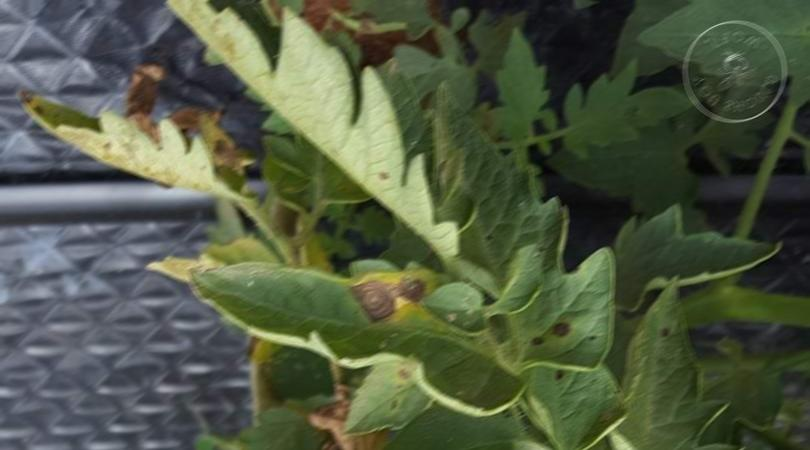Tomato Early blight leaf: (150, 249, 523, 419)
Tomato leaf: (600, 196, 781, 317), (557, 62, 699, 167)
